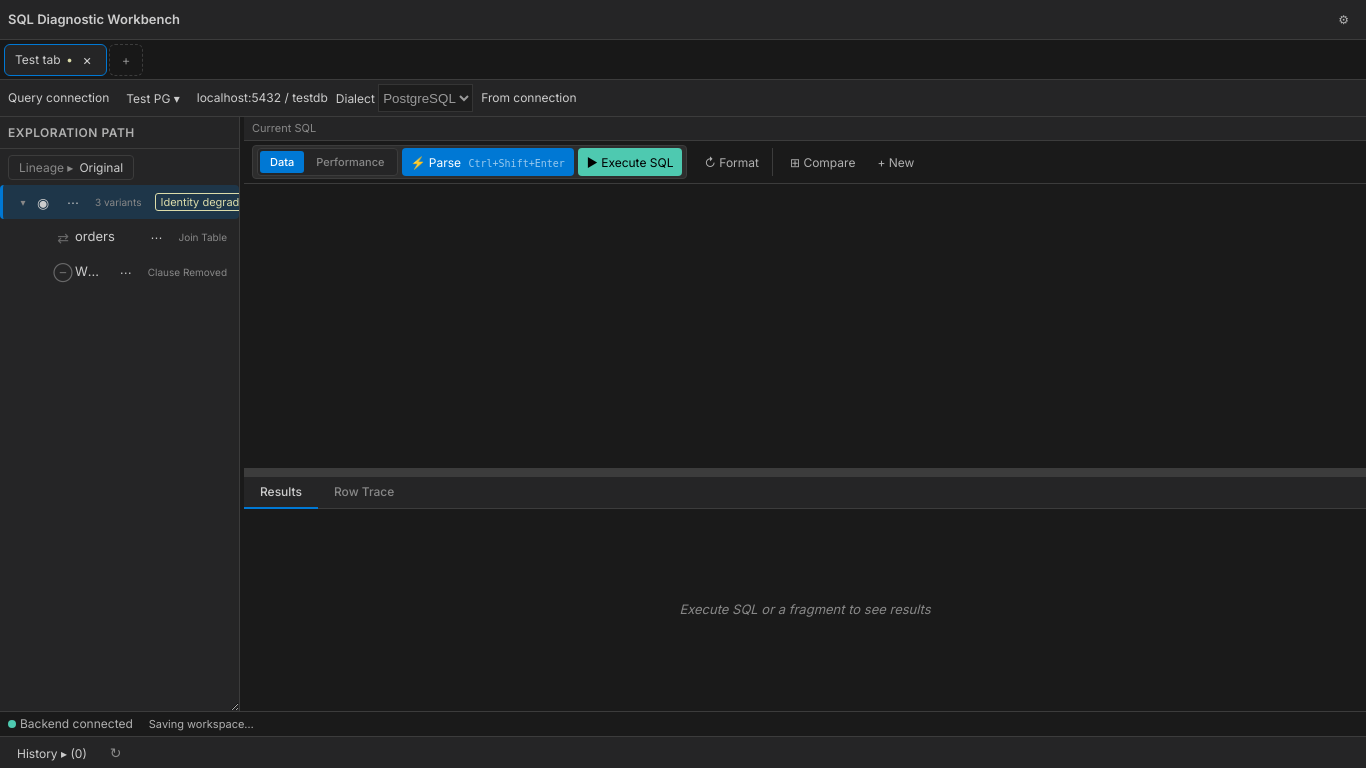
Scenario: App fragment-edit notice — degraded source (spec §5) › UNSUPPORTED keeps its own copy — the degraded notice never stacks on it
Expected: the button "▶ Execute SQL" is shown, [578, 148, 682, 176]
Right-click the list item "▾ ◉ ⋯ 3 variants Identity degraded" at (120, 202), box [0, 185, 239, 219]
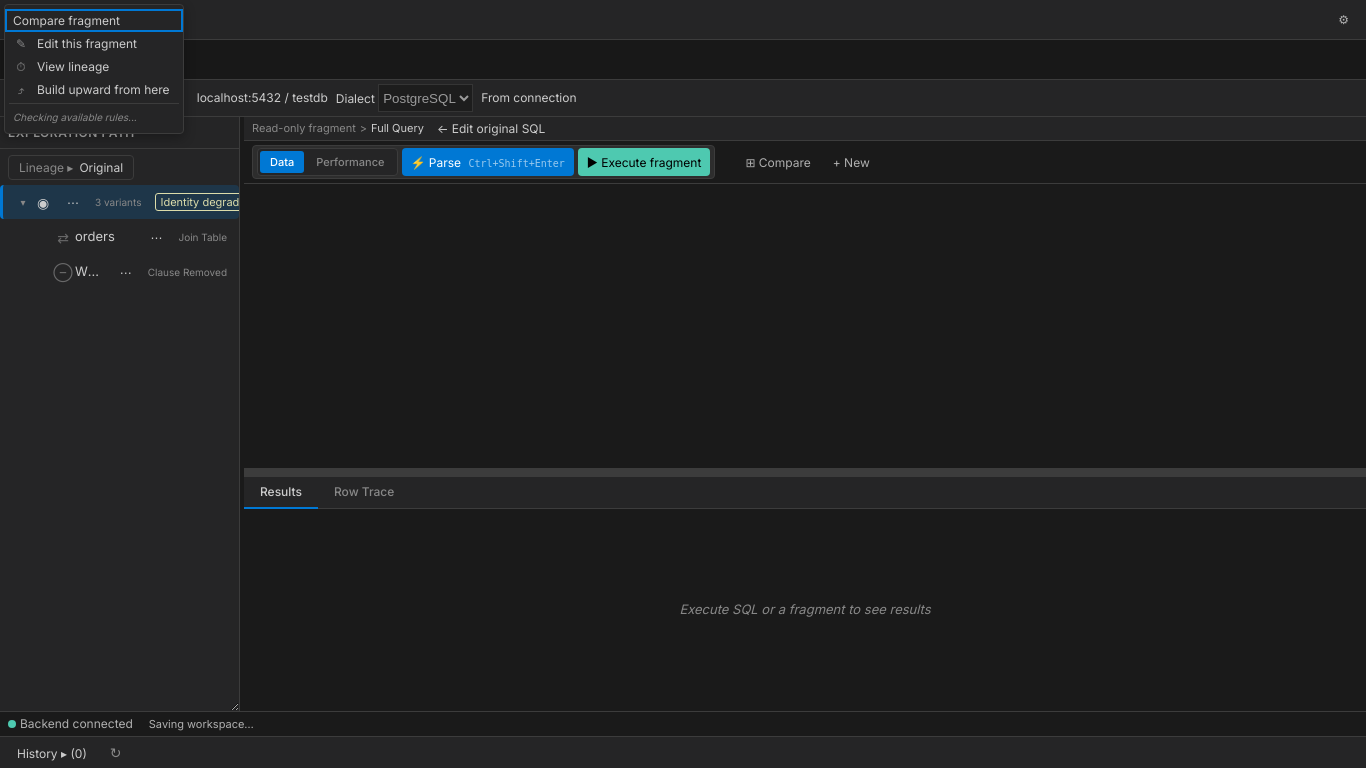
Click the menu item "✎ Edit this fragment" at (94, 44), box [5, 32, 183, 55]
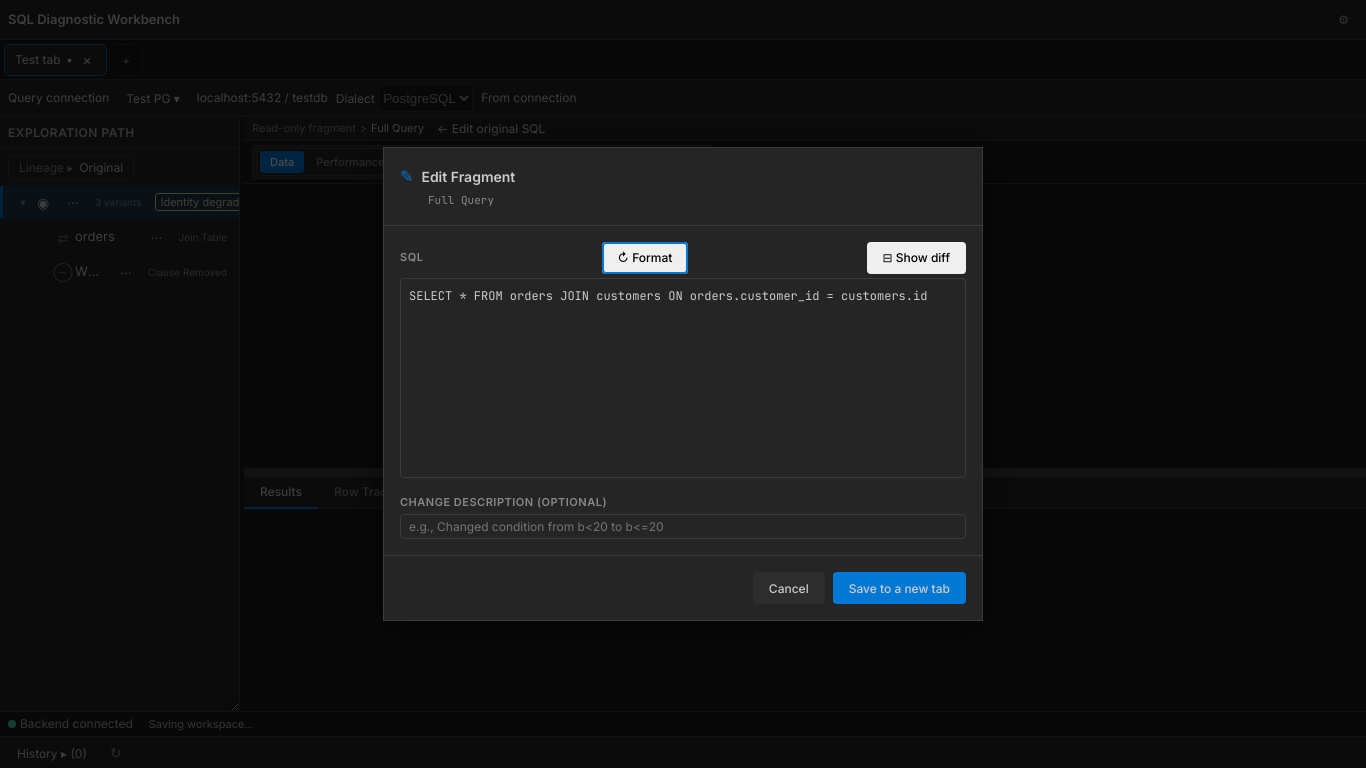
Replace the text in the text box named "SQL fragment editor" with "SELECT * FROM customers" at (683, 378), box [400, 278, 966, 478]
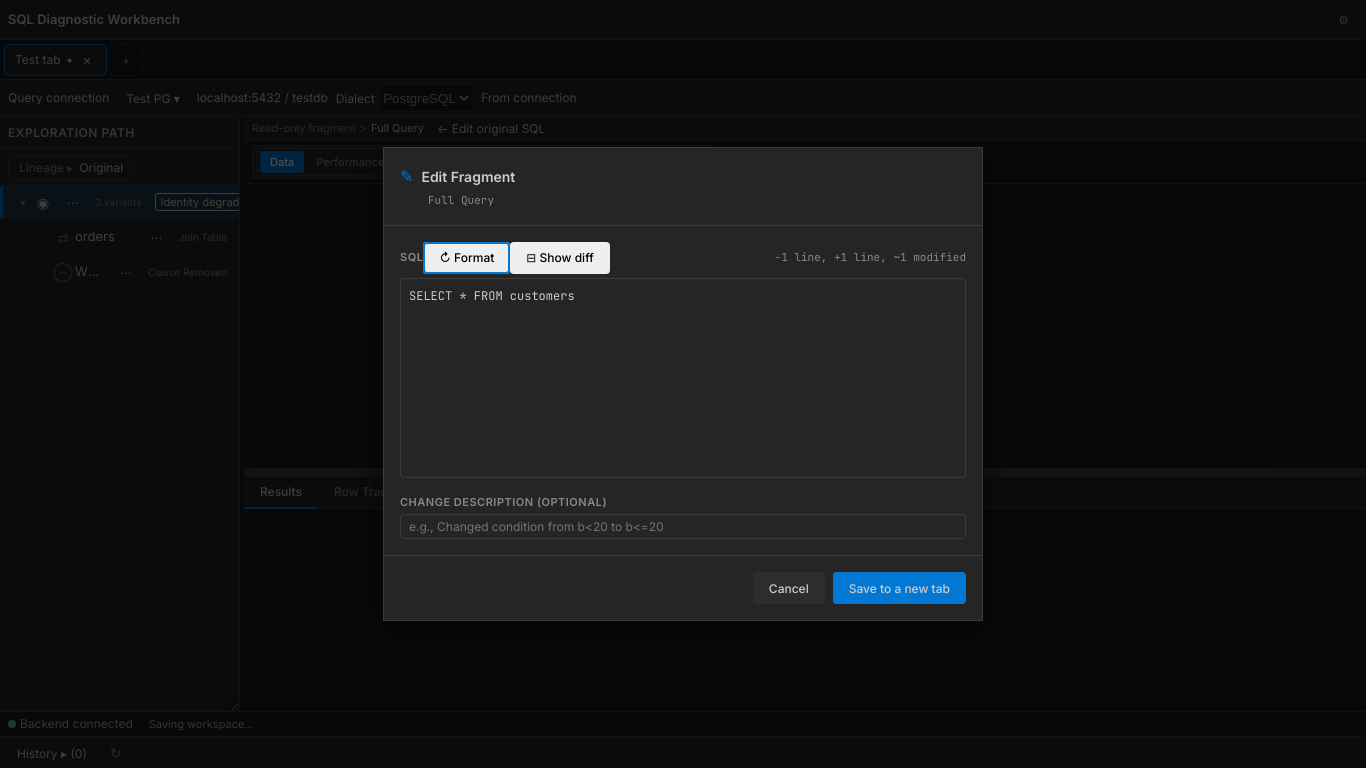
Click the button "Save to a new tab" at (899, 588), box [833, 572, 966, 604]
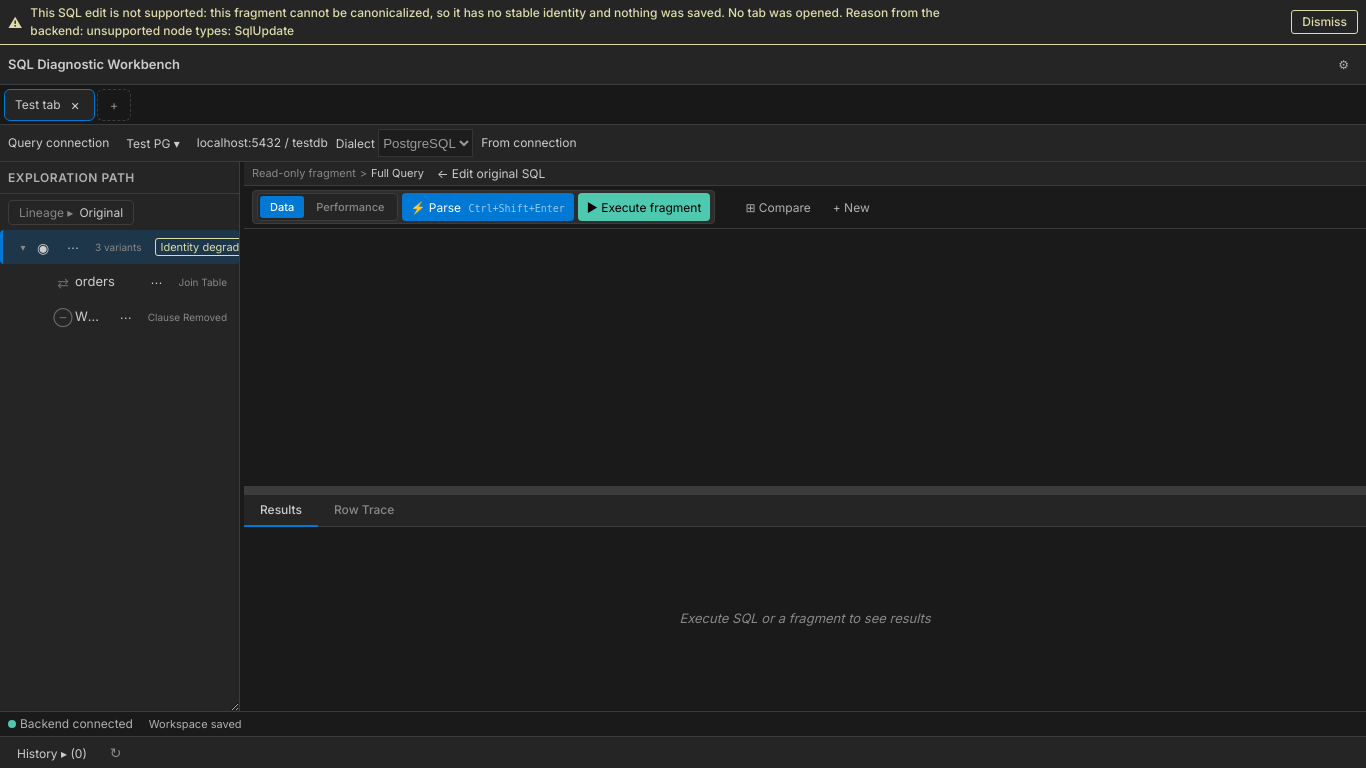
Expected: the text "cannot be canonicalized" does not show "carries a degraded identity", [0, 0, 1365, 45]
Now the text "cannot be canonicalized" shows "Reason from the backend: unsupported node types: SqlUpdate", box [30, 5, 940, 38]
